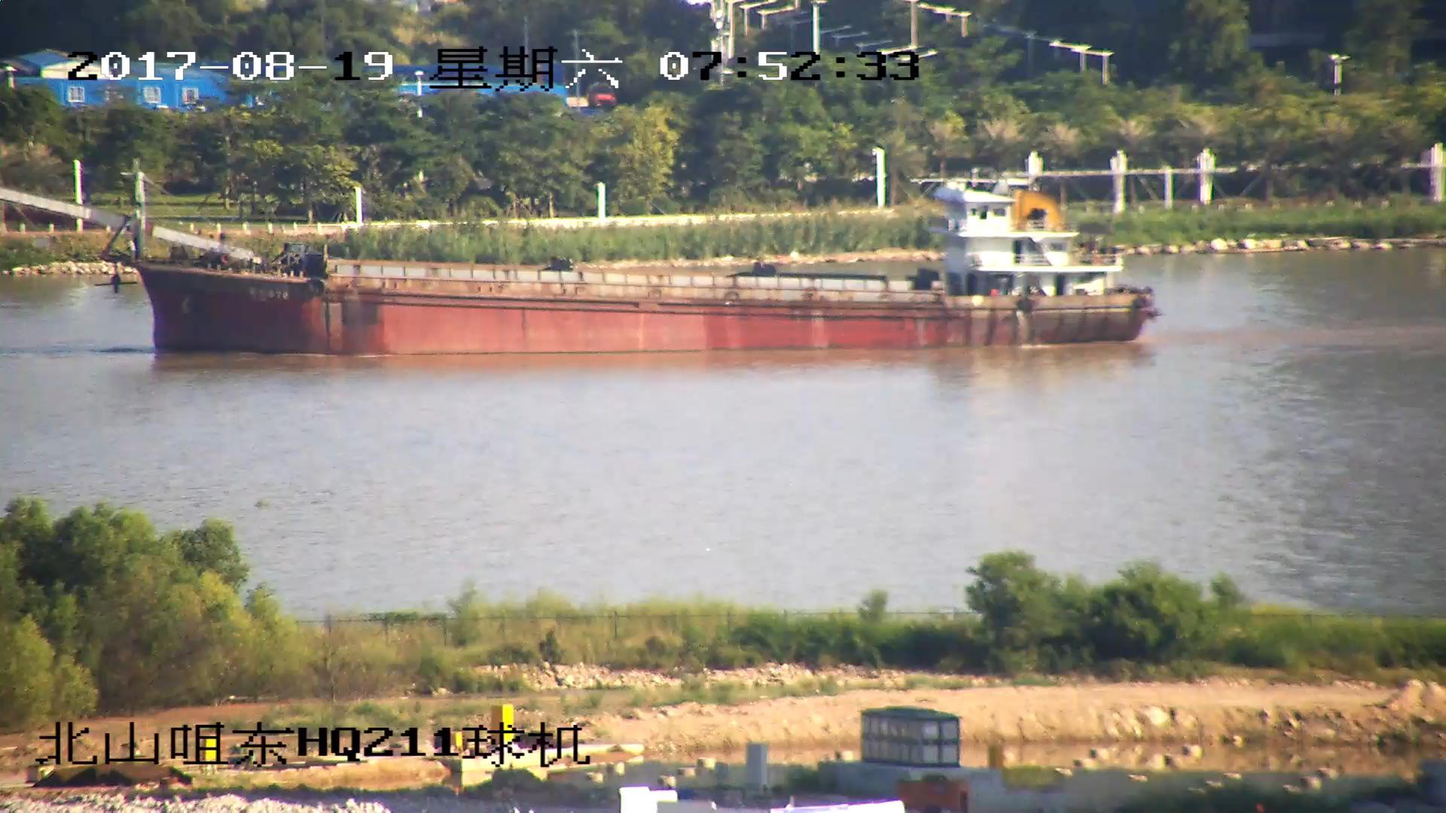bulk cargo carrier: (0, 181, 1157, 355)
